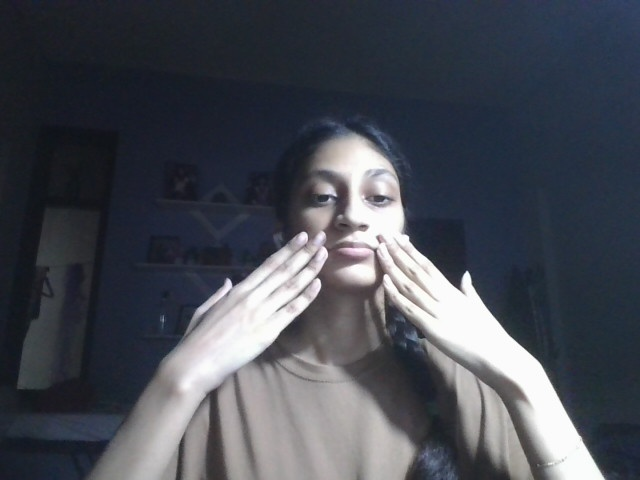thank you: (155, 230, 535, 400)
